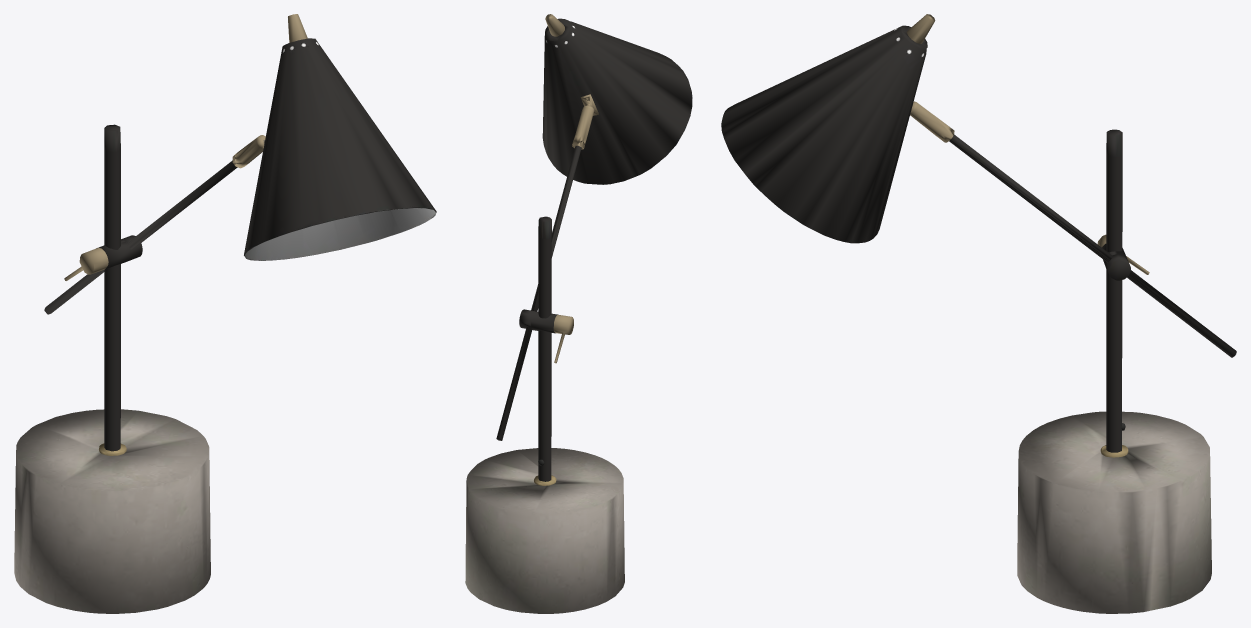
Rendered from B07B4YHYQV.glb.
3 renders of one model, left to right at view 1: azimuth 30°, elevation 25°; view 2: azimuth 150°, elevation 25°; view 3: azimuth 270°, elevation 25°, orthographic. The views are drawn at different scales.
Parts seen in each view (by area): view 1: RootNode; view 2: RootNode; view 3: RootNode.
Boxes of the visible parts, x1=… form: RootNode: x1=14, y1=14, x2=436, y2=613; RootNode: x1=465, y1=14, x2=692, y2=613; RootNode: x1=721, y1=14, x2=1236, y2=613.
Bounding box in the file's own units: 0.2142 × 0.5181 × 0.4027.
1 material, 1 textured.
